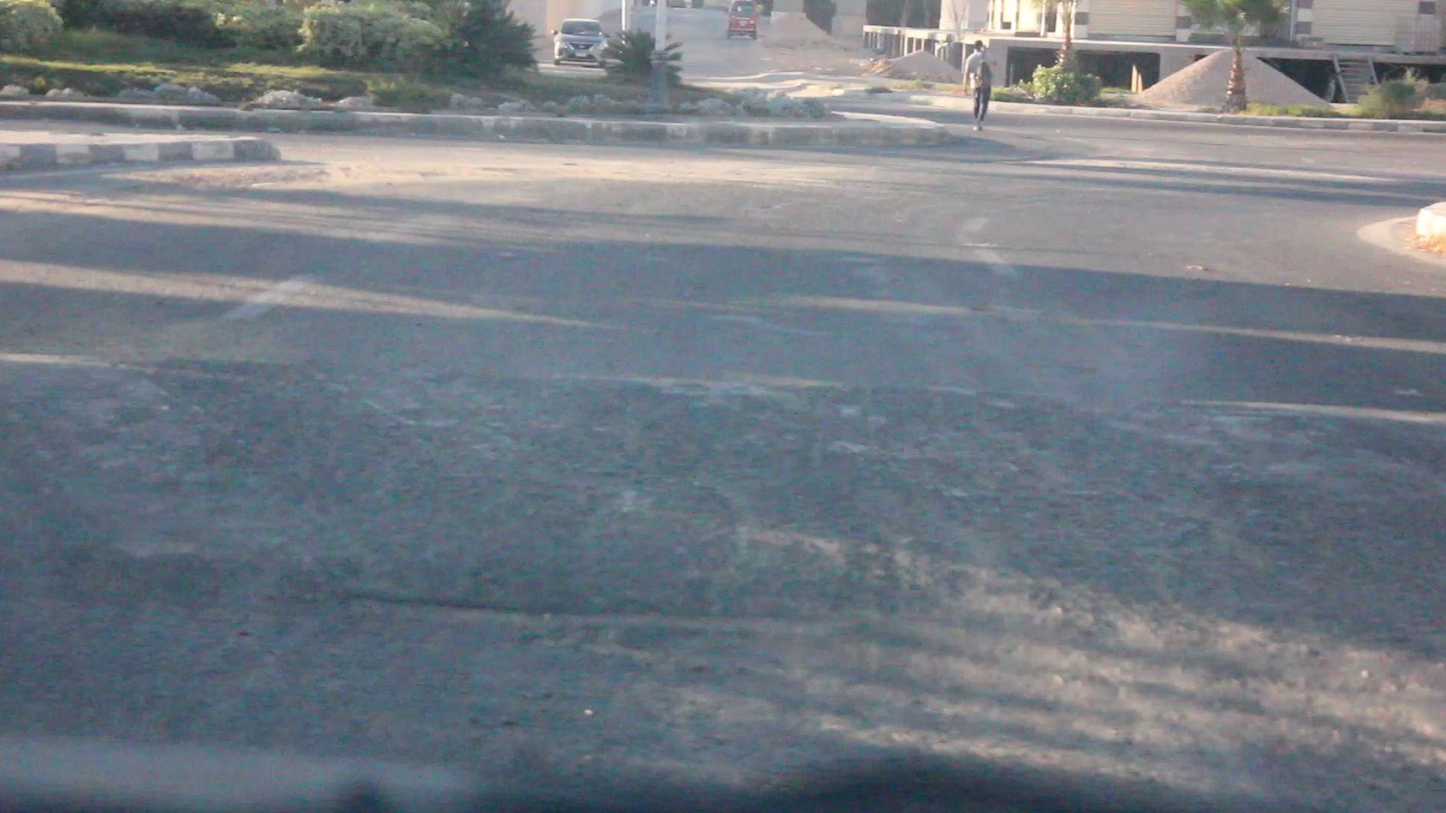Bump: (2, 365, 1446, 664)
